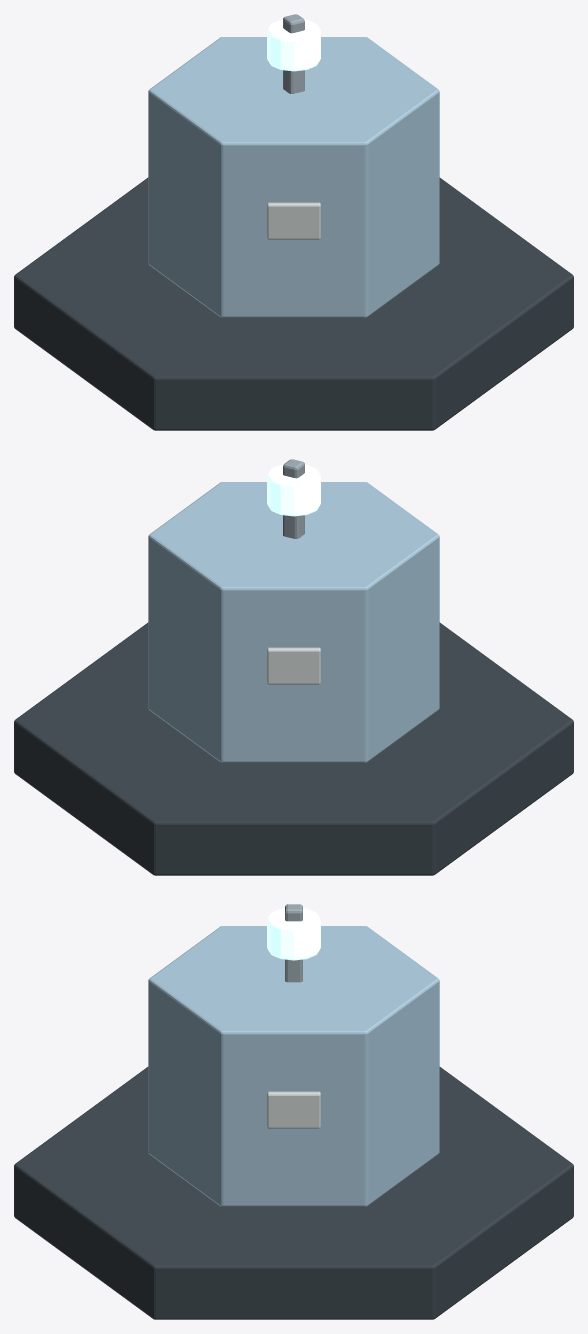
3 renders of one model, top to bottom at view 1: azimuth 30°, elevation 25°; view 2: azimuth 150°, elevation 25°; view 3: azimuth 270°, elevation 25°, orthographic.
Parts seen in each view (by area): view 1: BasePedestal, ArmorTower, TopSensor, Base_CeramicPanels, CrownSupport; view 2: BasePedestal, ArmorTower, TopSensor, Base_CeramicPanels, CrownSupport; view 3: BasePedestal, ArmorTower, TopSensor, Base_CeramicPanels, CrownSupport.
Part boxes in pixels (x1,y1,x2,y2): BasePedestal: (14,177,573,430); ArmorTower: (148,37,439,317); TopSensor: (267,19,320,71); Base_CeramicPanels: (267,202,320,239); CrownSupport: (283,14,304,93); BasePedestal: (14,622,573,875); ArmorTower: (148,482,439,762); TopSensor: (267,464,320,516); Base_CeramicPanels: (267,647,320,684); CrownSupport: (283,459,304,538); BasePedestal: (14,1067,573,1319); ArmorTower: (148,926,439,1206); TopSensor: (267,908,320,960); Base_CeramicPanels: (267,1091,320,1128); CrownSupport: (285,904,302,982).
Bounding box in the file's own units: 1.63 × 1.15 × 1.88.
